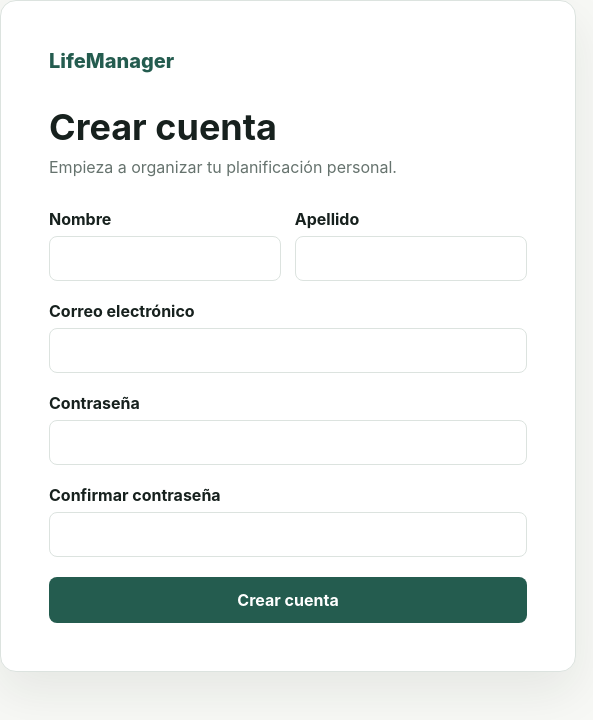
Test: RegistrationPage › shows the safe duplicate-email message for 409
Type " Ada " into the field labelled "Nombre" at (165, 259), box [49, 236, 281, 281]
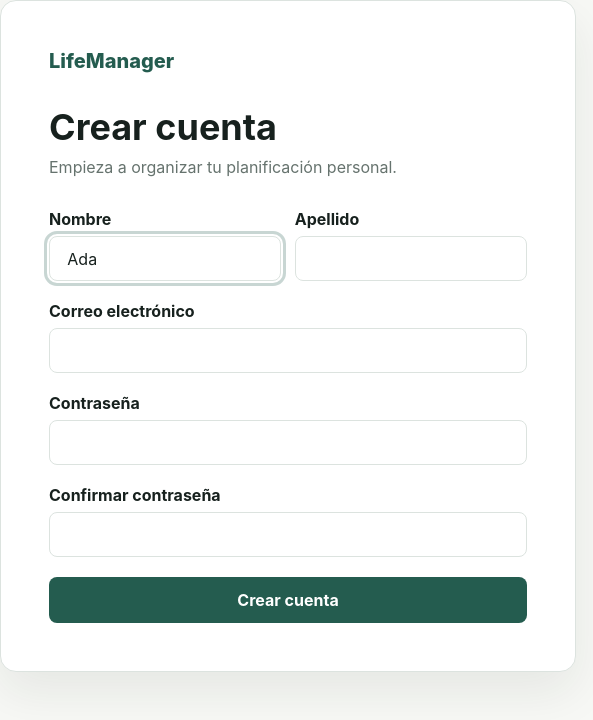
Type " Lovelace " into the field labelled "Apellido" at (411, 259), box [295, 236, 527, 281]
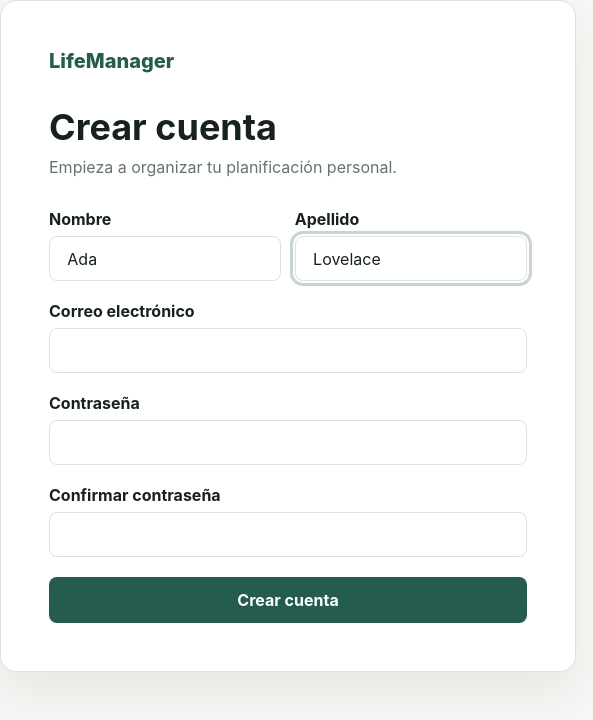
Type "ada@example.com" into the field labelled "Correo electrónico" at (288, 351), box [49, 328, 527, 373]
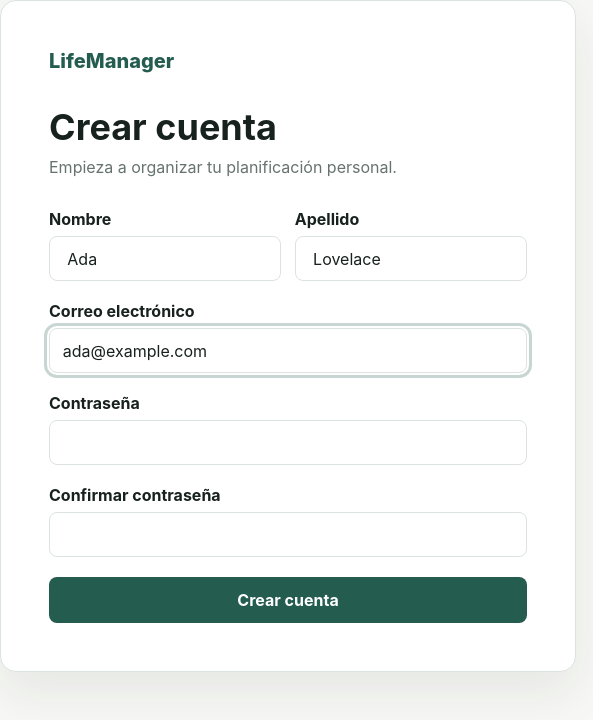
Type "secret" into the password field labelled "Contraseña" at (288, 443), box [49, 420, 527, 465]
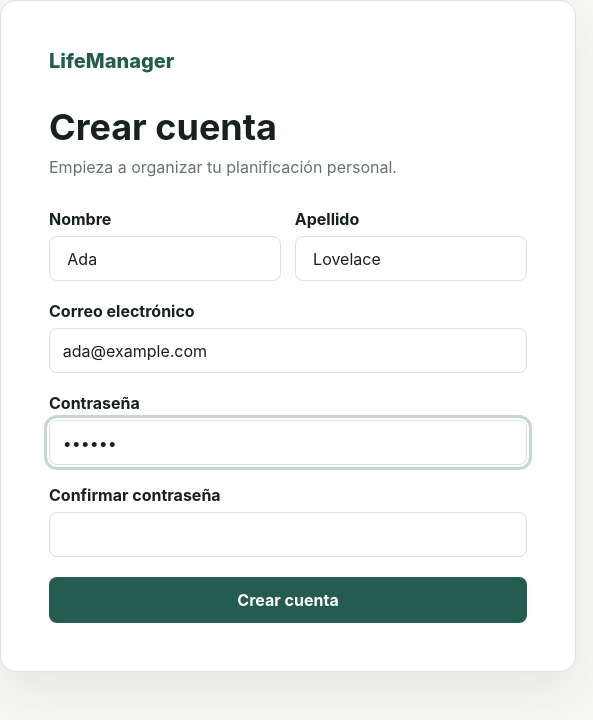
Type "secret" into the password field labelled "Confirmar contraseña" at (288, 534), box [49, 512, 527, 557]
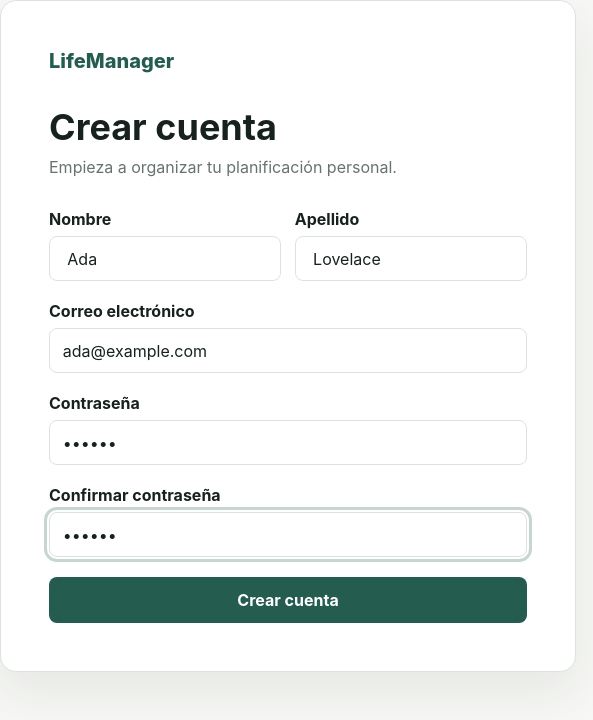
Click the button "Crear cuenta" at (288, 600), box [49, 577, 527, 623]
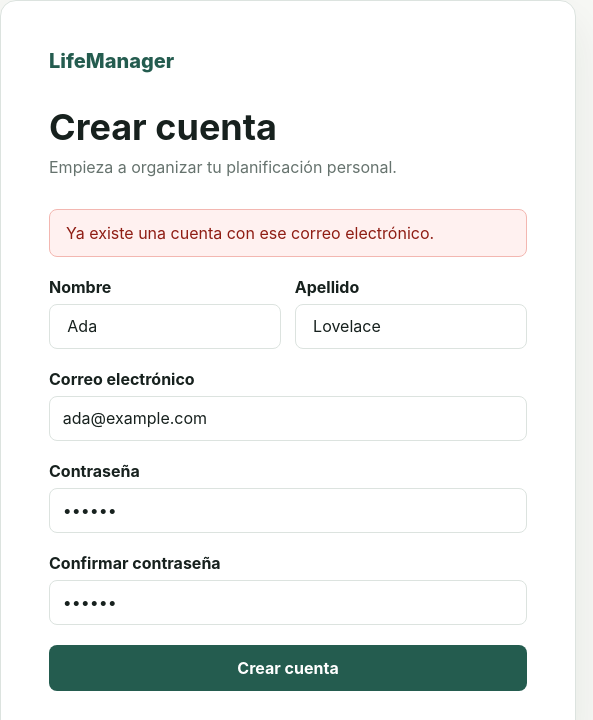
Expected: the message reads "Ya existe una cuenta con ese correo electrónico.", [66, 223, 434, 243]
